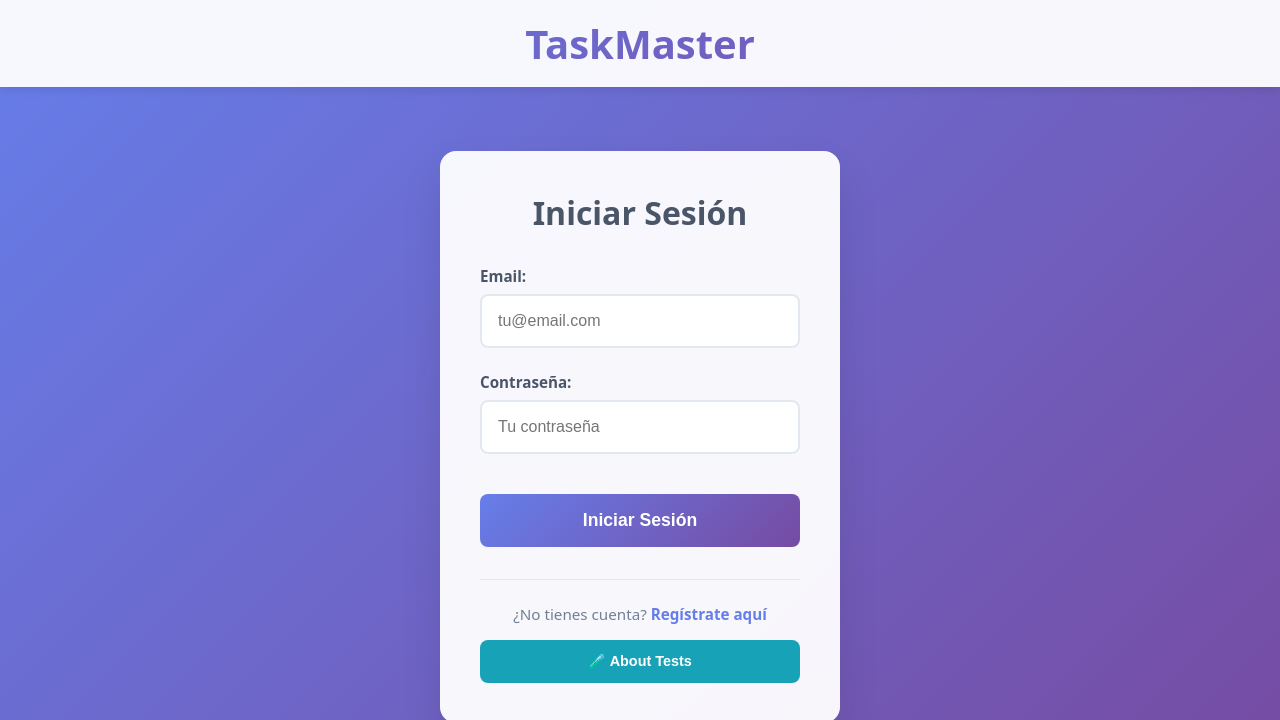
Test case: Gestión de Tareas › Crear Tareas › debería permitir crear una nueva tarea exitosamente
Type "test@taskmaster.com" into the field with test id "email-input" at (640, 321), box [480,294,800,348]
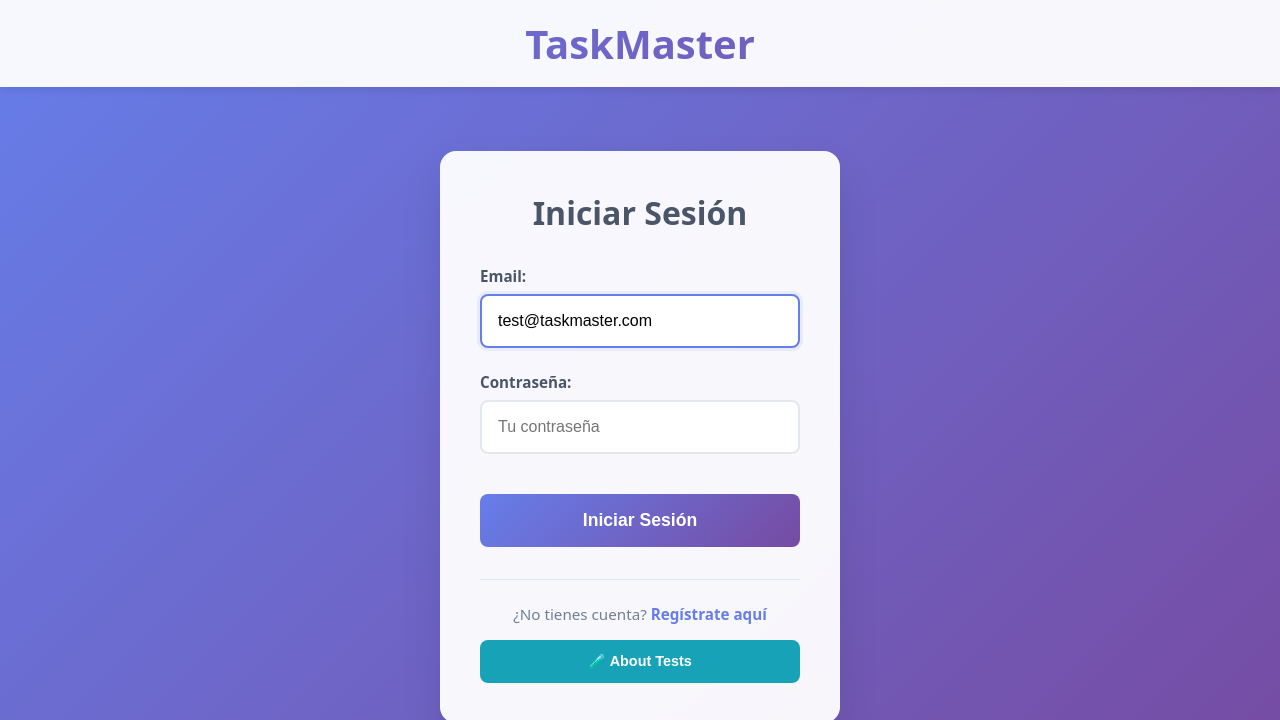
Type "password123" into the password field with test id "password-input" at (640, 427), box [480,400,800,454]
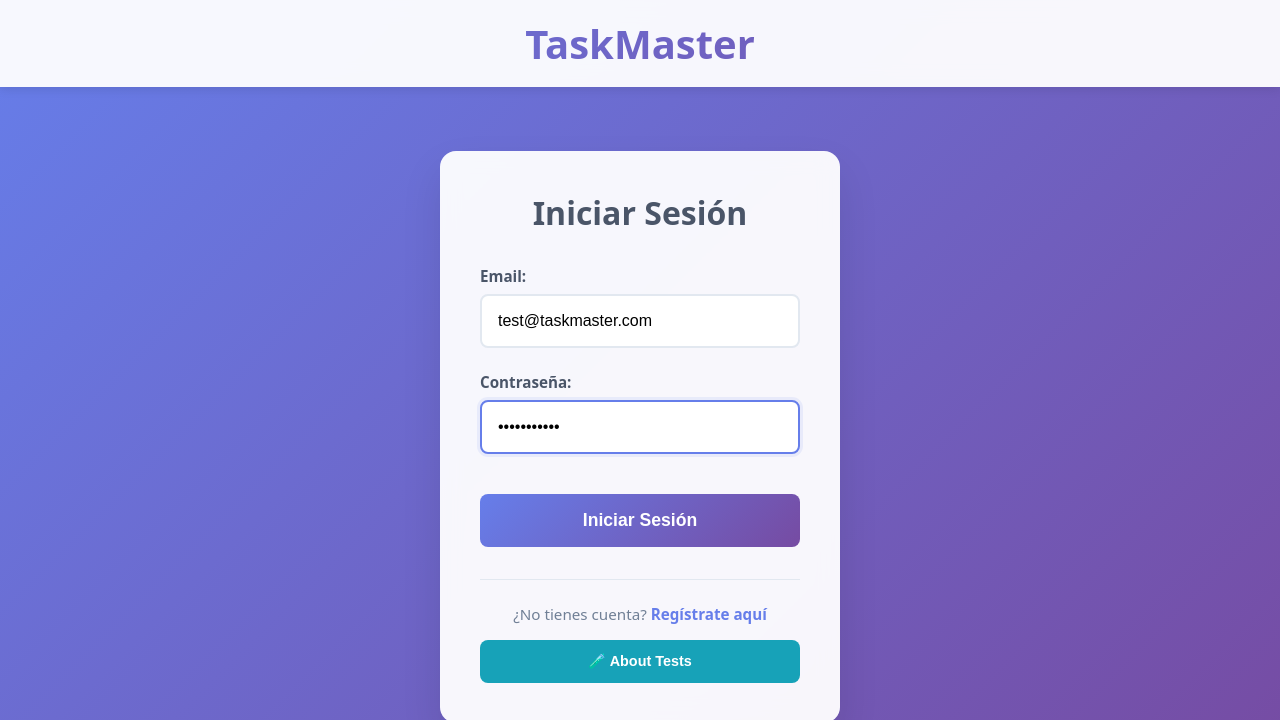
Click the button with test id "login-button" at (640, 521), box [480,494,800,547]
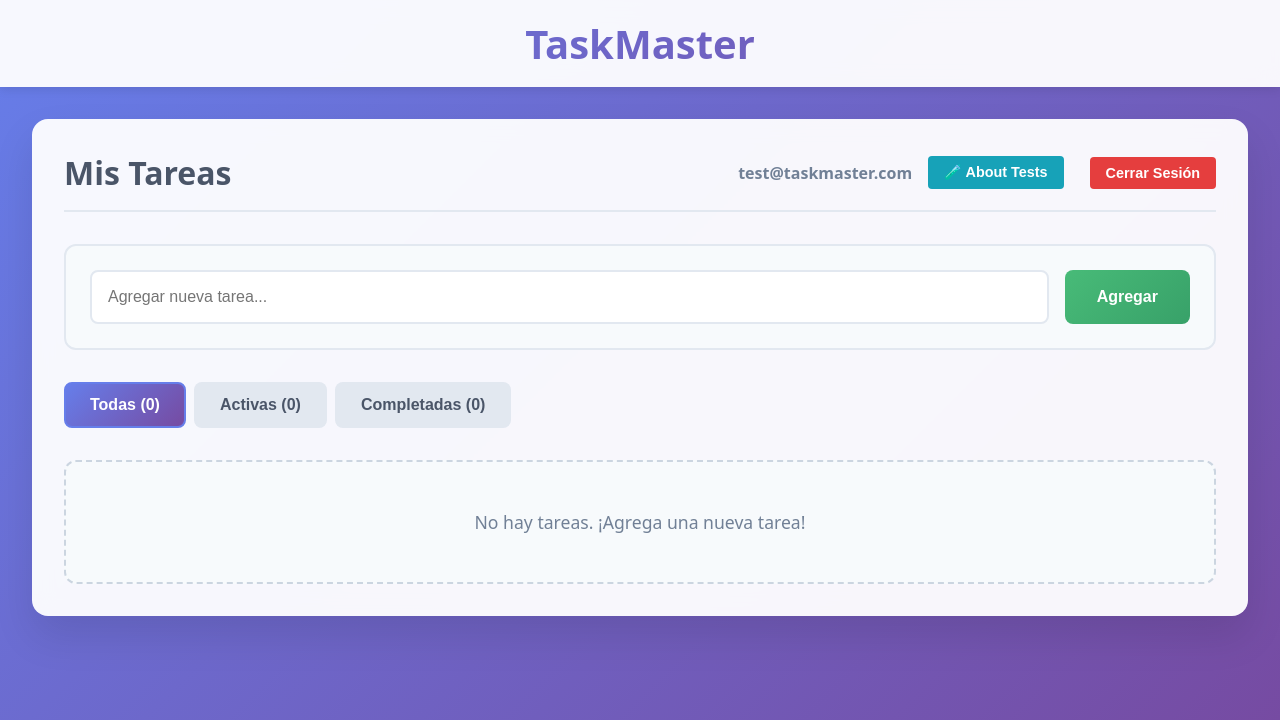
Expected: the heading "Mis Tareas" is shown, [64,151,232,194]
Type "Nueva tarea de prueba" into the field with test id "new-task-input" at (570, 297), box [90,270,1049,324]
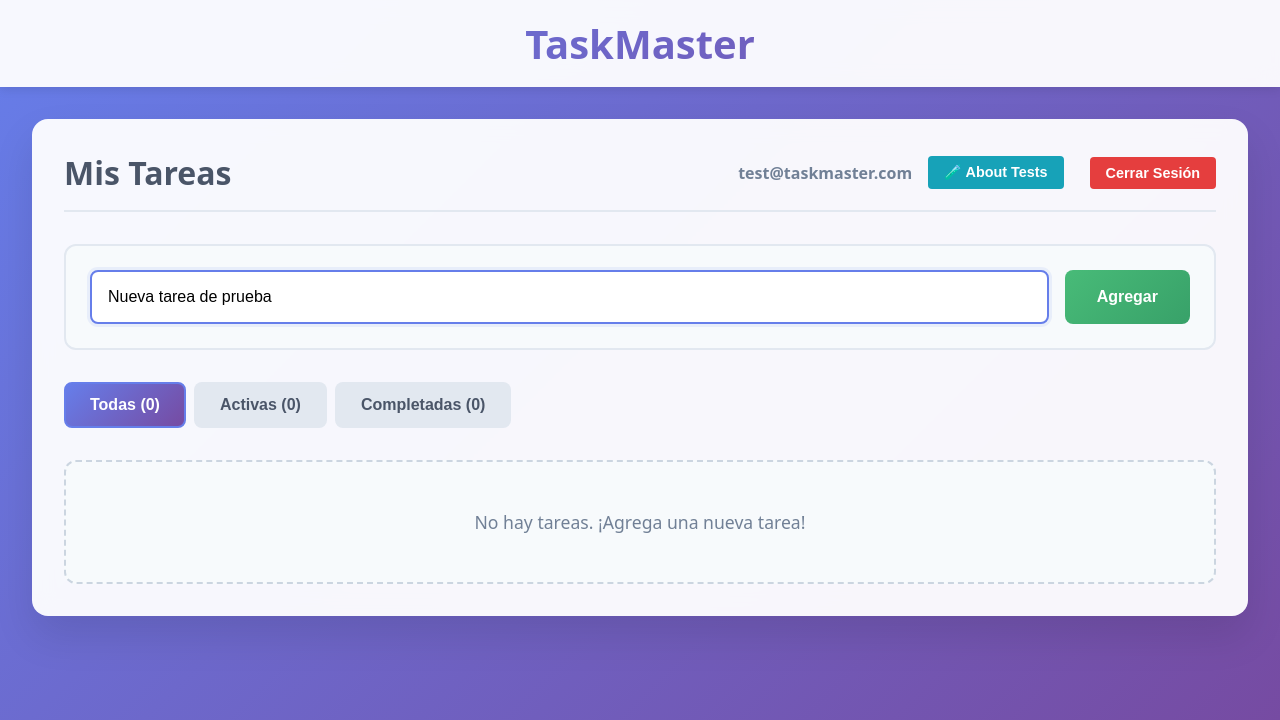
Click the button with test id "add-task-button" at (1128, 297), box [1065,270,1190,324]
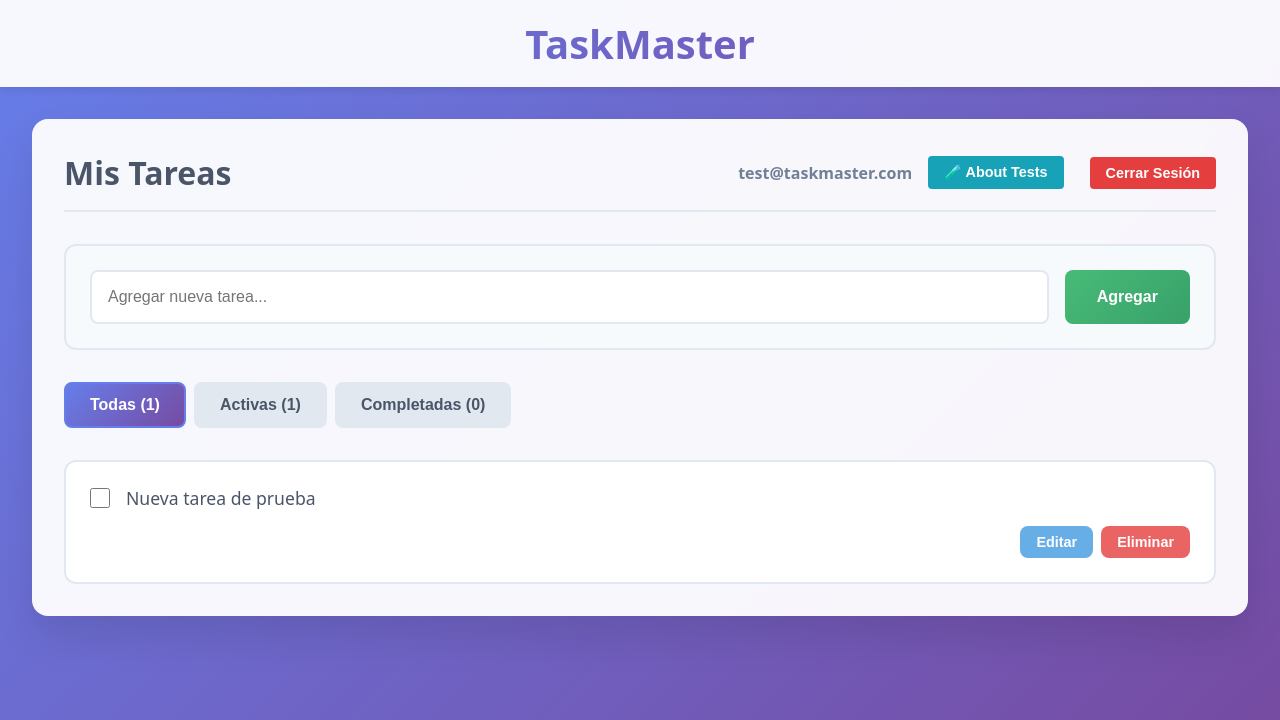
Expected: the text with test id "task-text-" reads "Nueva tarea de prueba", [126,486,316,510]
